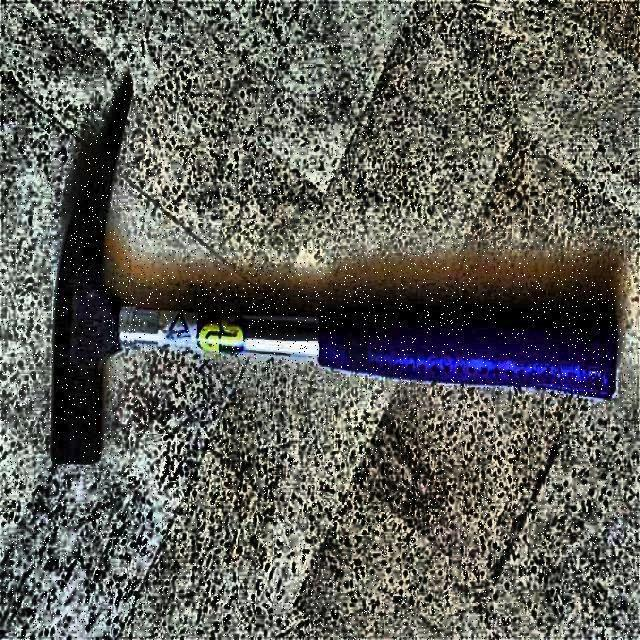hammer: (51, 85, 619, 466)
